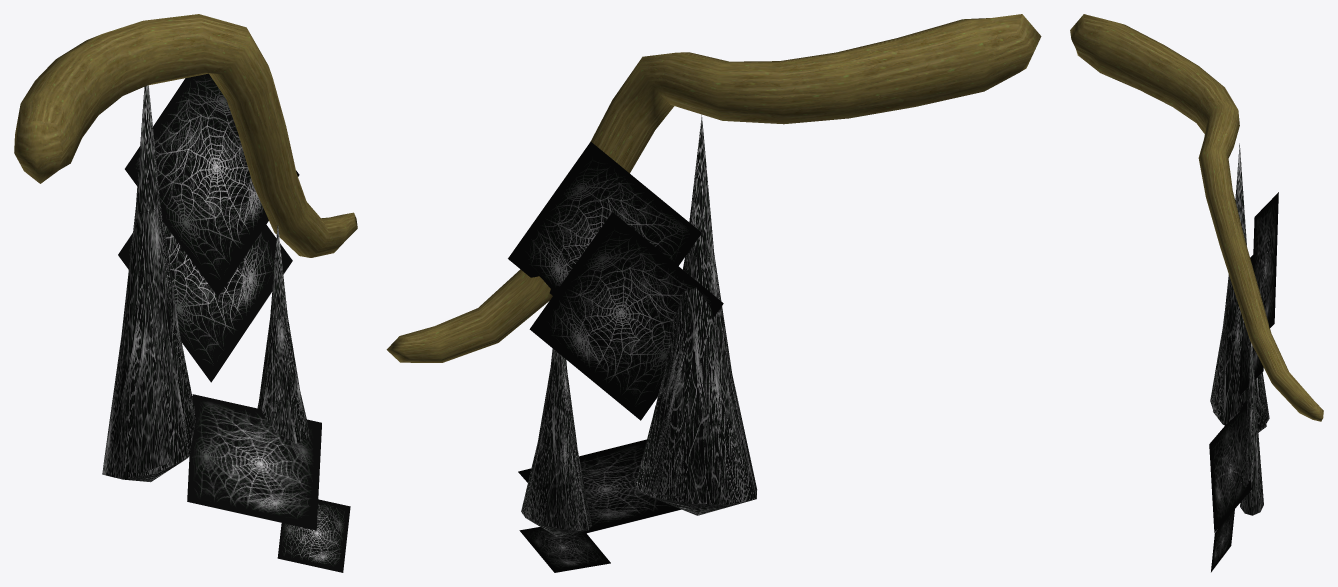
File: INST_MIRK_DEADBRANCH_WEBS.obj
3 views of the same model, side by side, from view 1: azimuth 30°, elevation 25°; view 2: azimuth 150°, elevation 25°; view 3: azimuth 270°, elevation 25° (orthographic). The views are drawn at different scales.
Parts seen in each view (by area): view 1: k_PlaySurface01, Plane646, Sphere03, Plane644, Plane645, Sphere04, Sphere05, Plane643; view 2: k_PlaySurface01, Plane645, Sphere03, Plane646, Sphere04, Plane644, Sphere05, Plane643; view 3: k_PlaySurface01, Sphere03, Plane644, Plane646, Sphere04, Sphere05, Plane645, Plane643.
Part boxes in pixels (x1,y1,x2,y2): k_PlaySurface01: (14,14,357,257); Plane646: (125,73,299,296); Sphere03: (102,85,195,482); Plane644: (187,394,321,530); Plane645: (118,222,292,382); Sphere04: (257,225,309,443); Sphere05: (127,252,171,473); Plane643: (277,499,350,572); k_PlaySurface01: (386,14,1041,362); Plane645: (529,212,723,420); Sphere03: (635,115,757,515); Plane646: (508,142,701,295); Sphere04: (521,348,591,536); Plane644: (518,439,681,533); Sphere05: (640,293,688,496); Plane643: (519,527,610,572); k_PlaySurface01: (1070,14,1323,421); Sphere03: (1213,143,1266,432); Plane644: (1209,401,1251,532); Plane646: (1250,192,1278,348); Sphere04: (1240,343,1263,515); Sphere05: (1210,301,1269,425); Plane645: (1239,255,1263,395); Plane643: (1211,509,1234,572).
Bounding box in the file's own units: 1180 × 1367 × 737.
